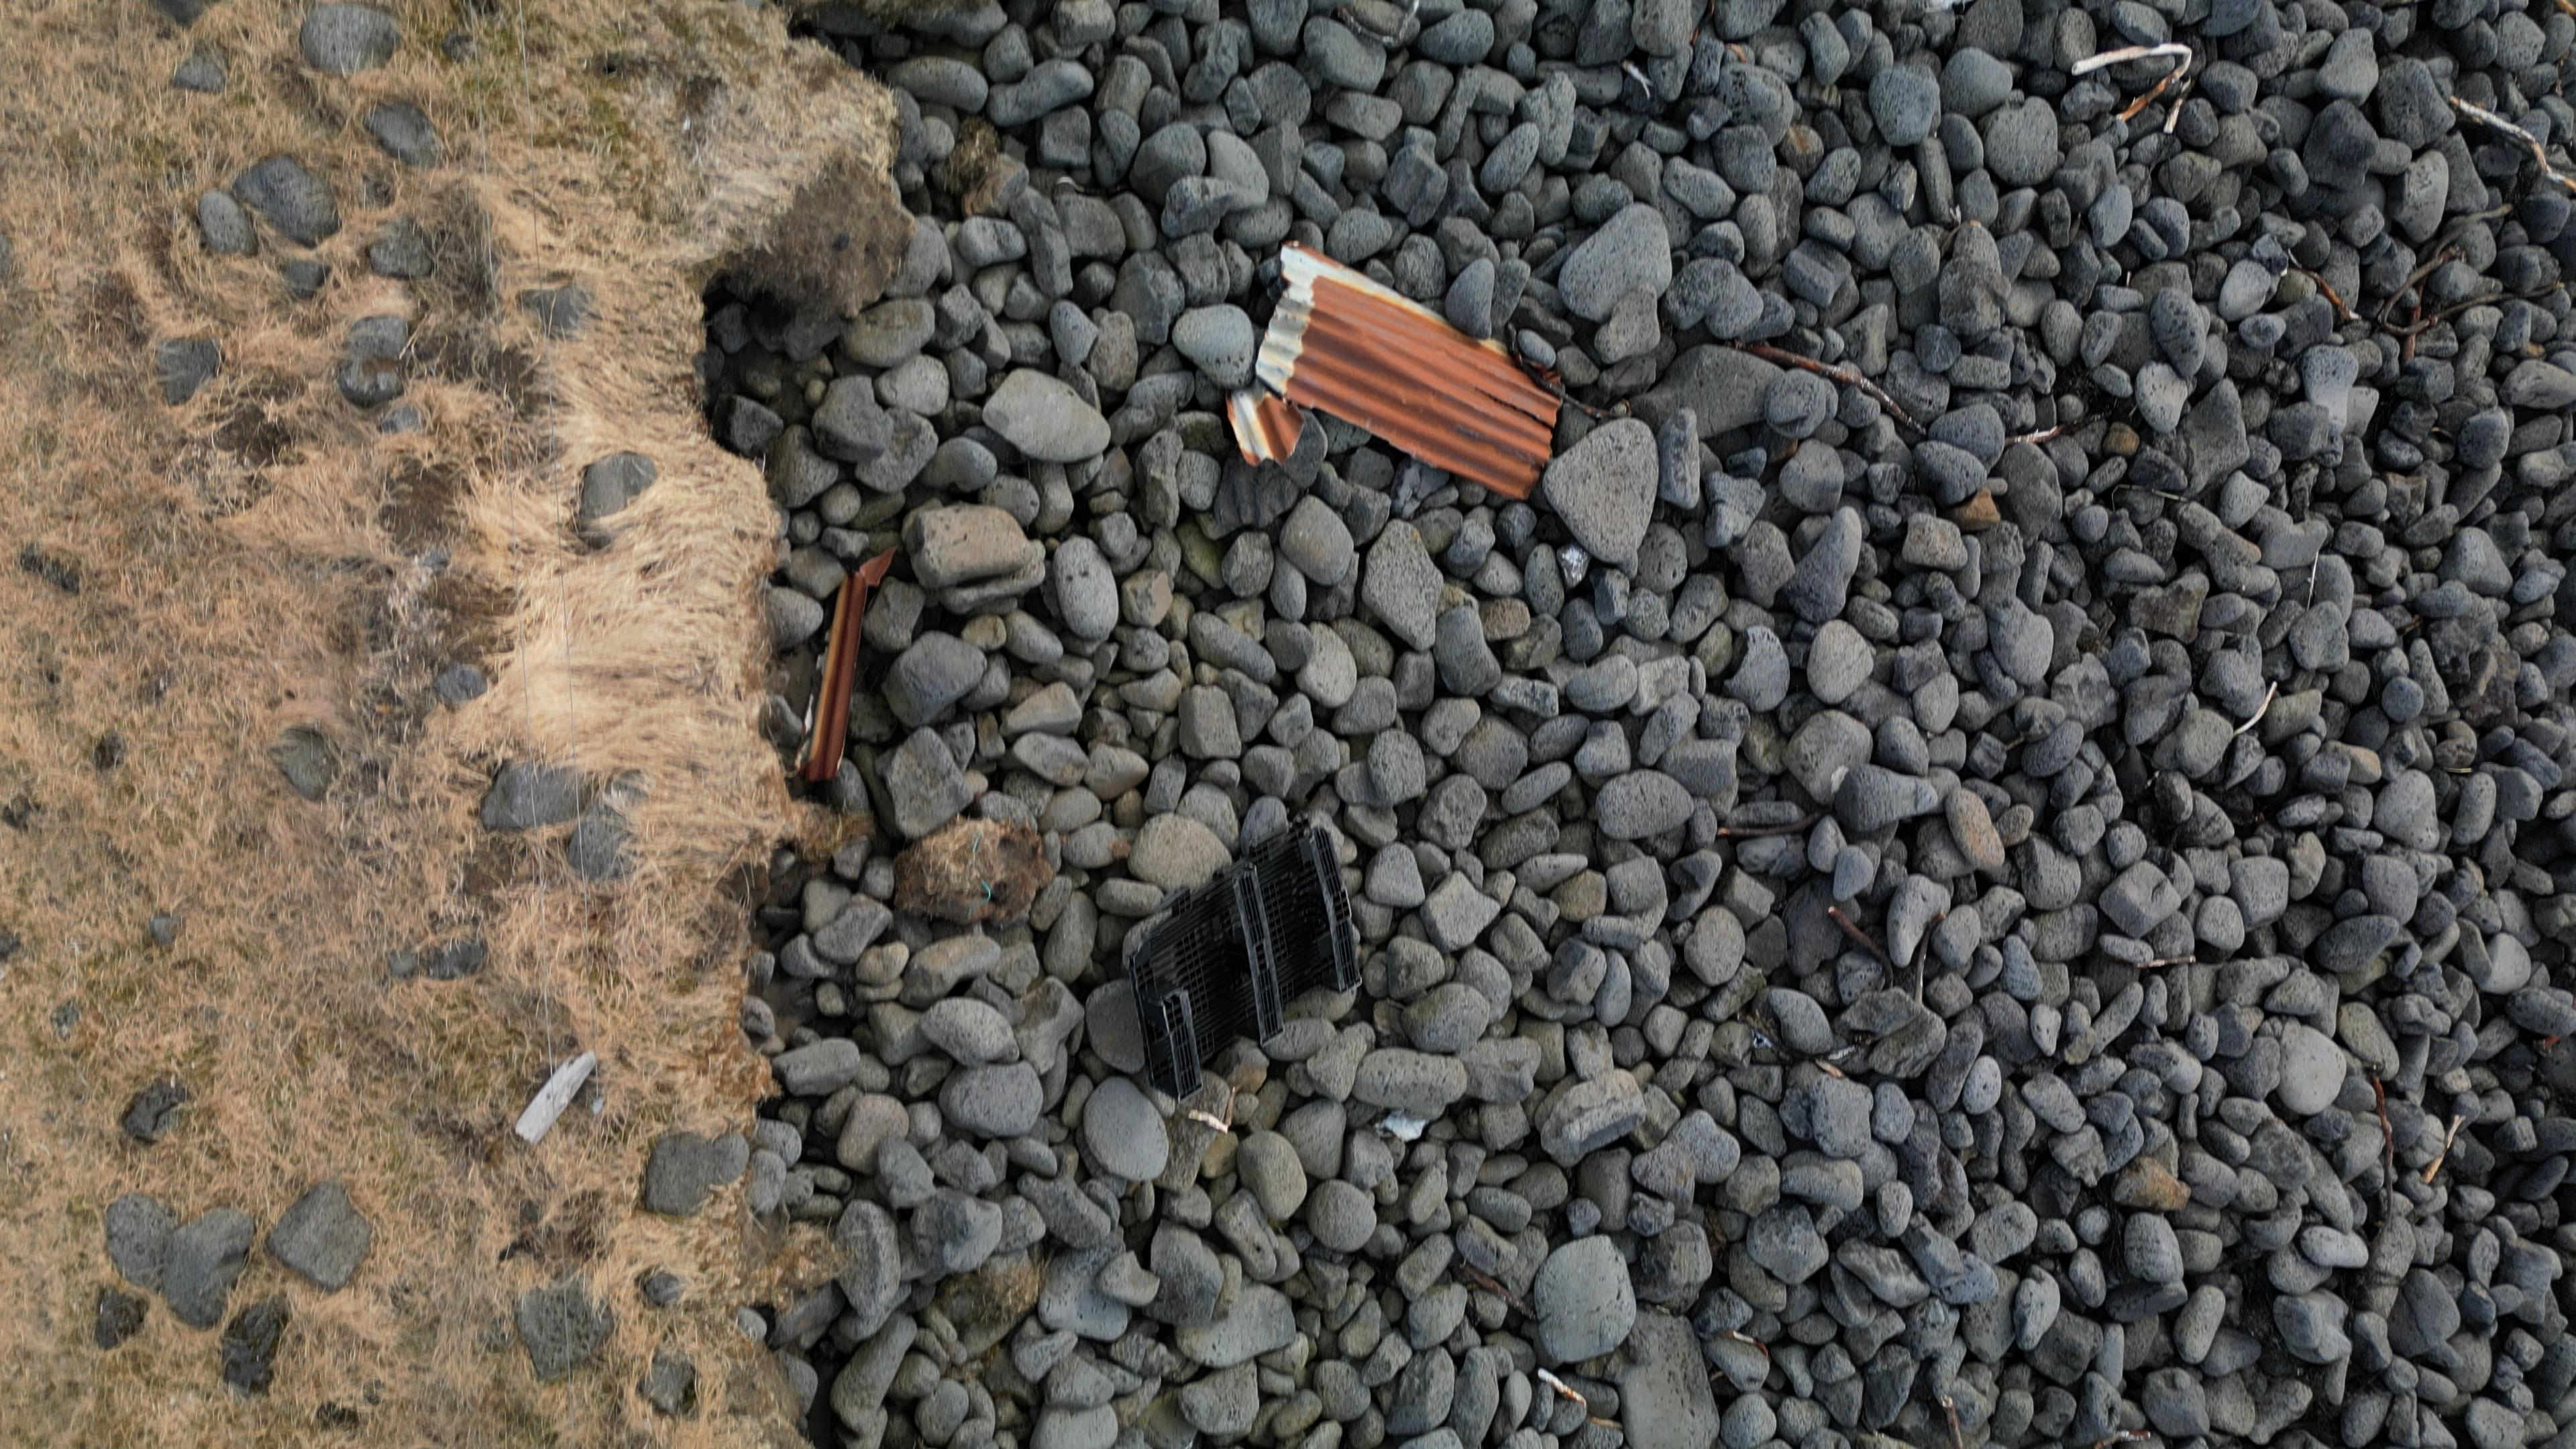trash: (1258, 251, 1560, 499), (1127, 821, 1359, 1097), (800, 559, 885, 780), (1228, 382, 1304, 464)
